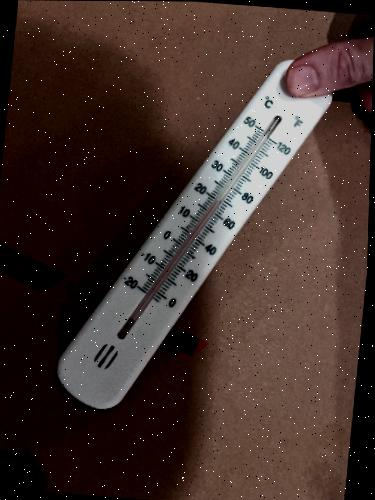thermo: (48, 52, 344, 420)
